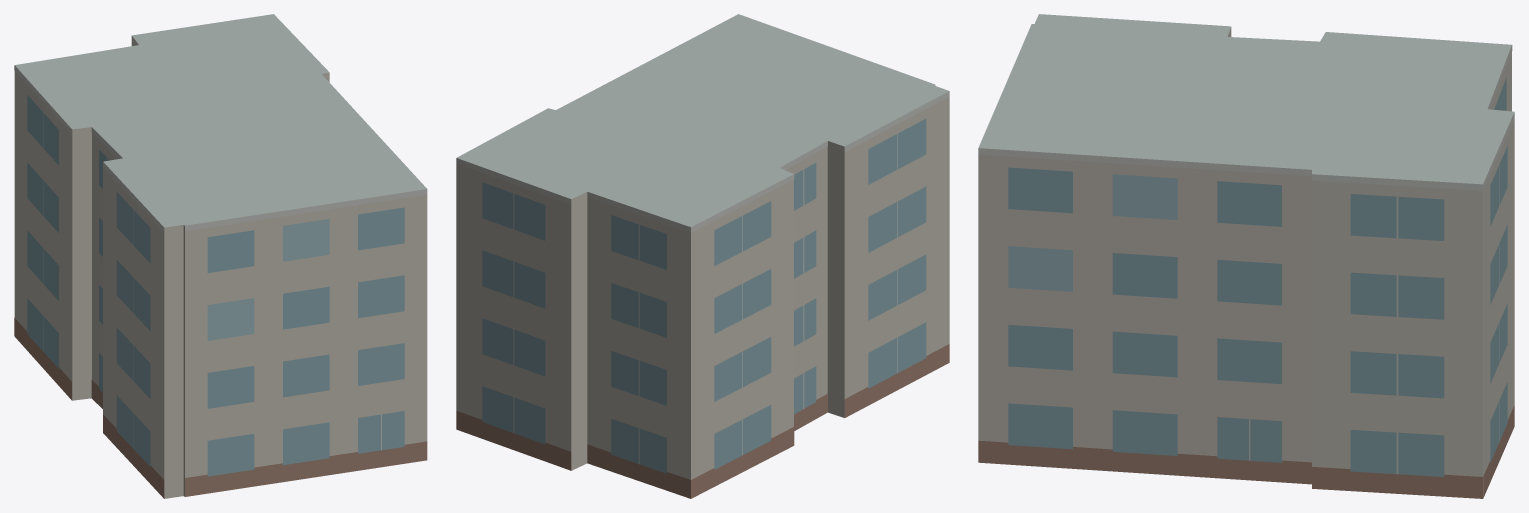
The model's file is survey-upis-32772360.glb.
3 views of the same model, side by side, from view 1: azimuth 30°, elevation 25°; view 2: azimuth 150°, elevation 25°; view 3: azimuth 270°, elevation 25° (orthographic). The views are drawn at different scales.
Visible parts, largest first — view 1: survey-upis-32772360.tmp; view 2: survey-upis-32772360.tmp; view 3: survey-upis-32772360.tmp.
Part boxes in pixels (x1,y1,x2,y2): survey-upis-32772360.tmp: (14, 14, 427, 498); survey-upis-32772360.tmp: (456, 14, 949, 498); survey-upis-32772360.tmp: (978, 14, 1514, 498).
Size of the model in its own units: 13.77 by 11.85 by 18.32.
